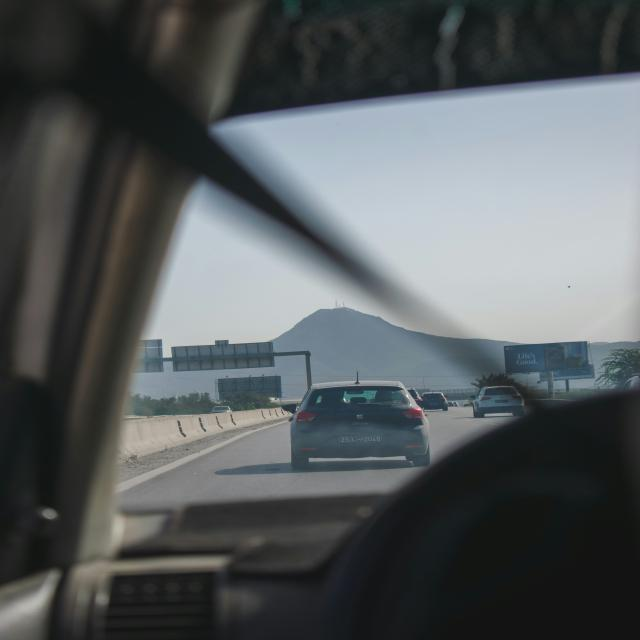Car: (291, 381, 430, 468), (473, 387, 524, 417), (422, 392, 448, 411), (407, 388, 424, 408), (621, 374, 639, 390), (211, 406, 231, 413), (448, 401, 455, 406), (453, 401, 459, 406)
